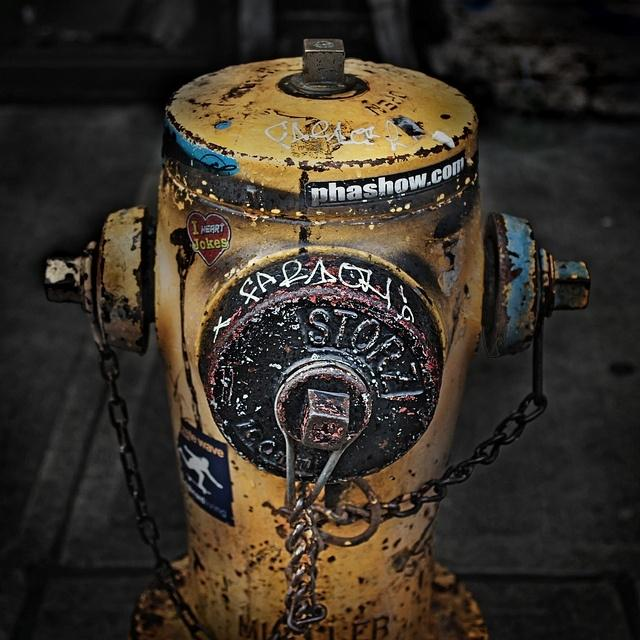fire_hydrant: (1, 33, 640, 640)
